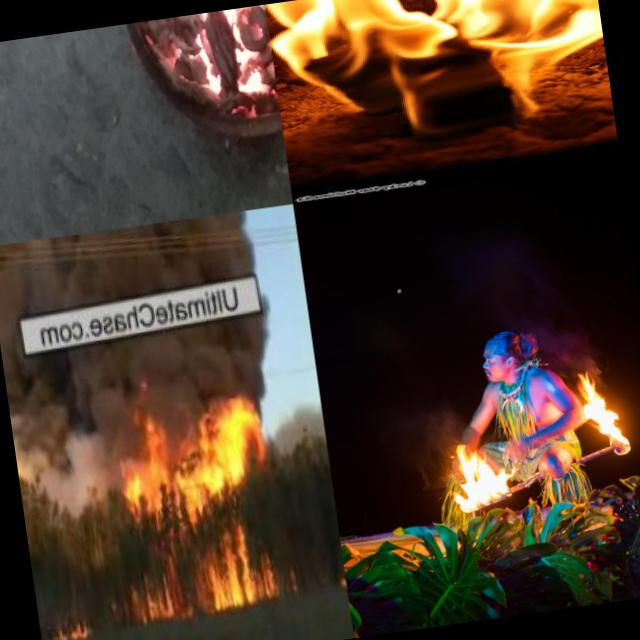fire: (265, 0, 613, 157), (178, 387, 271, 495), (195, 530, 284, 610), (117, 412, 180, 522), (444, 434, 524, 520), (174, 0, 280, 60), (580, 359, 630, 452), (128, 565, 192, 626), (45, 608, 93, 640)
smoke: (40, 384, 104, 513), (409, 403, 464, 490), (546, 331, 608, 399)
